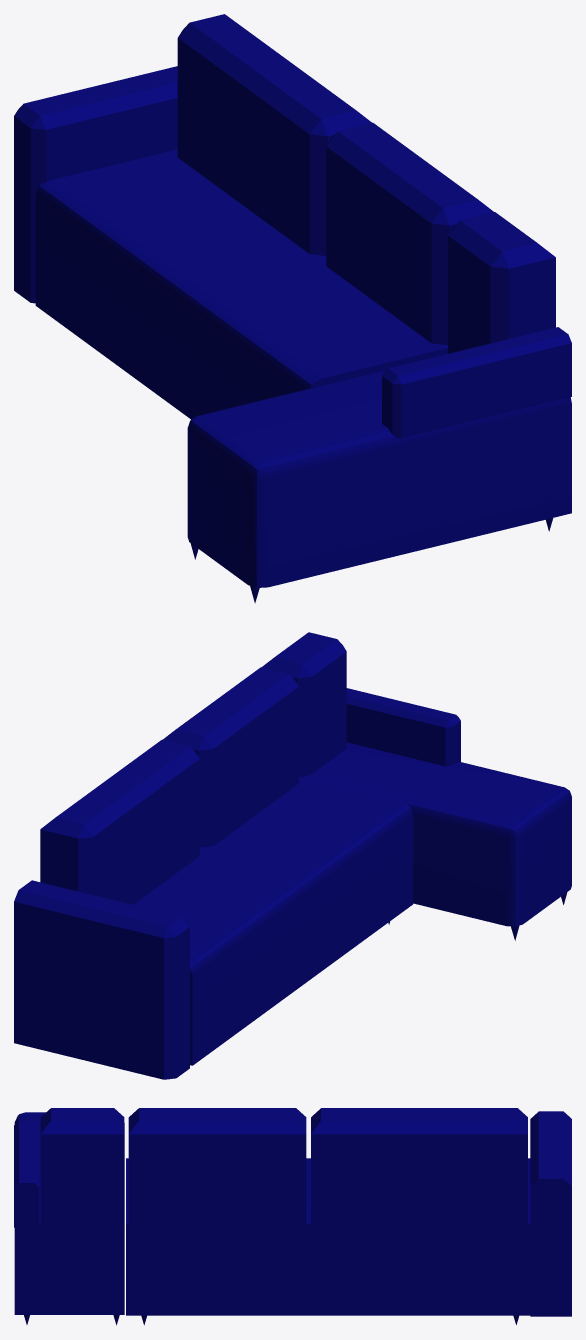
The model's file is bluesofa.gltf.
3 renders of one model, top to bottom at view 1: azimuth 30°, elevation 25°; view 2: azimuth 150°, elevation 25°; view 3: azimuth 270°, elevation 25°, orthographic. The views are drawn at different scales.
Visible parts, largest first — view 1: pCube13, pCube14, pCube11, pCube10, pCube12, pCube9, pCube6; view 2: pCube13, pCube12, pCube14, pCube11, pCube10, pCube6, pCube9; view 3: pCube13, pCube11, pCube10, pCube14, pCube6, pCube12, pCube9.
Boxes of the visible parts, x1,y1,x2,y2 form: pCube13: (35,149,447,419); pCube14: (187,370,571,587); pCube11: (177,14,371,255); pCube10: (326,122,493,345); pCube12: (14,66,177,303); pCube9: (382,327,571,438); pCube6: (448,212,555,353); pCube13: (133,776,413,1065); pCube12: (14,880,189,1079); pCube14: (301,742,571,926); pCube11: (40,739,199,904); pCube10: (163,667,298,847); pCube6: (262,632,346,776); pCube9: (346,688,460,766); pCube13: (126,1158,530,1315); pCube11: (311,1108,527,1225); pCube10: (128,1108,306,1225); pCube14: (14,1112,124,1314); pCube6: (40,1108,124,1225); pCube12: (530,1111,571,1316); pCube9: (14,1121,39,1227).
Bounding box in the file's own units: 5.47 × 4.5 × 11.03.
